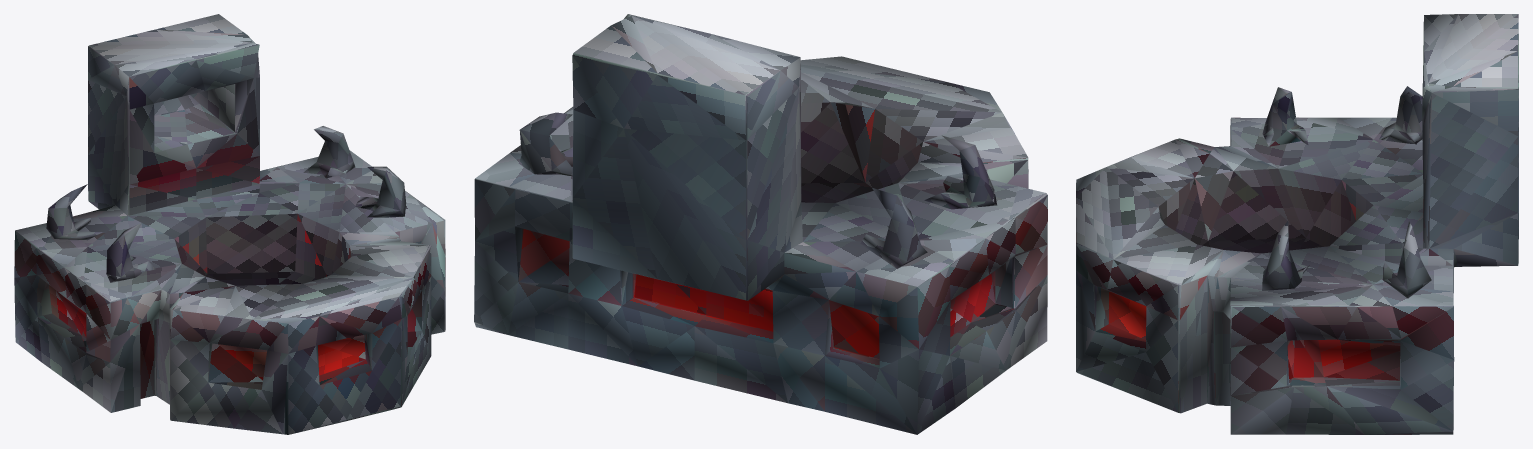
The model's file is nvaltar.obj.
3 renders of one model, left to right at view 1: azimuth 30°, elevation 25°; view 2: azimuth 150°, elevation 25°; view 3: azimuth 270°, elevation 25°, orthographic. The views are drawn at different scales.
Size of the model in its own units: 1.91 by 1.37 by 1.89.
